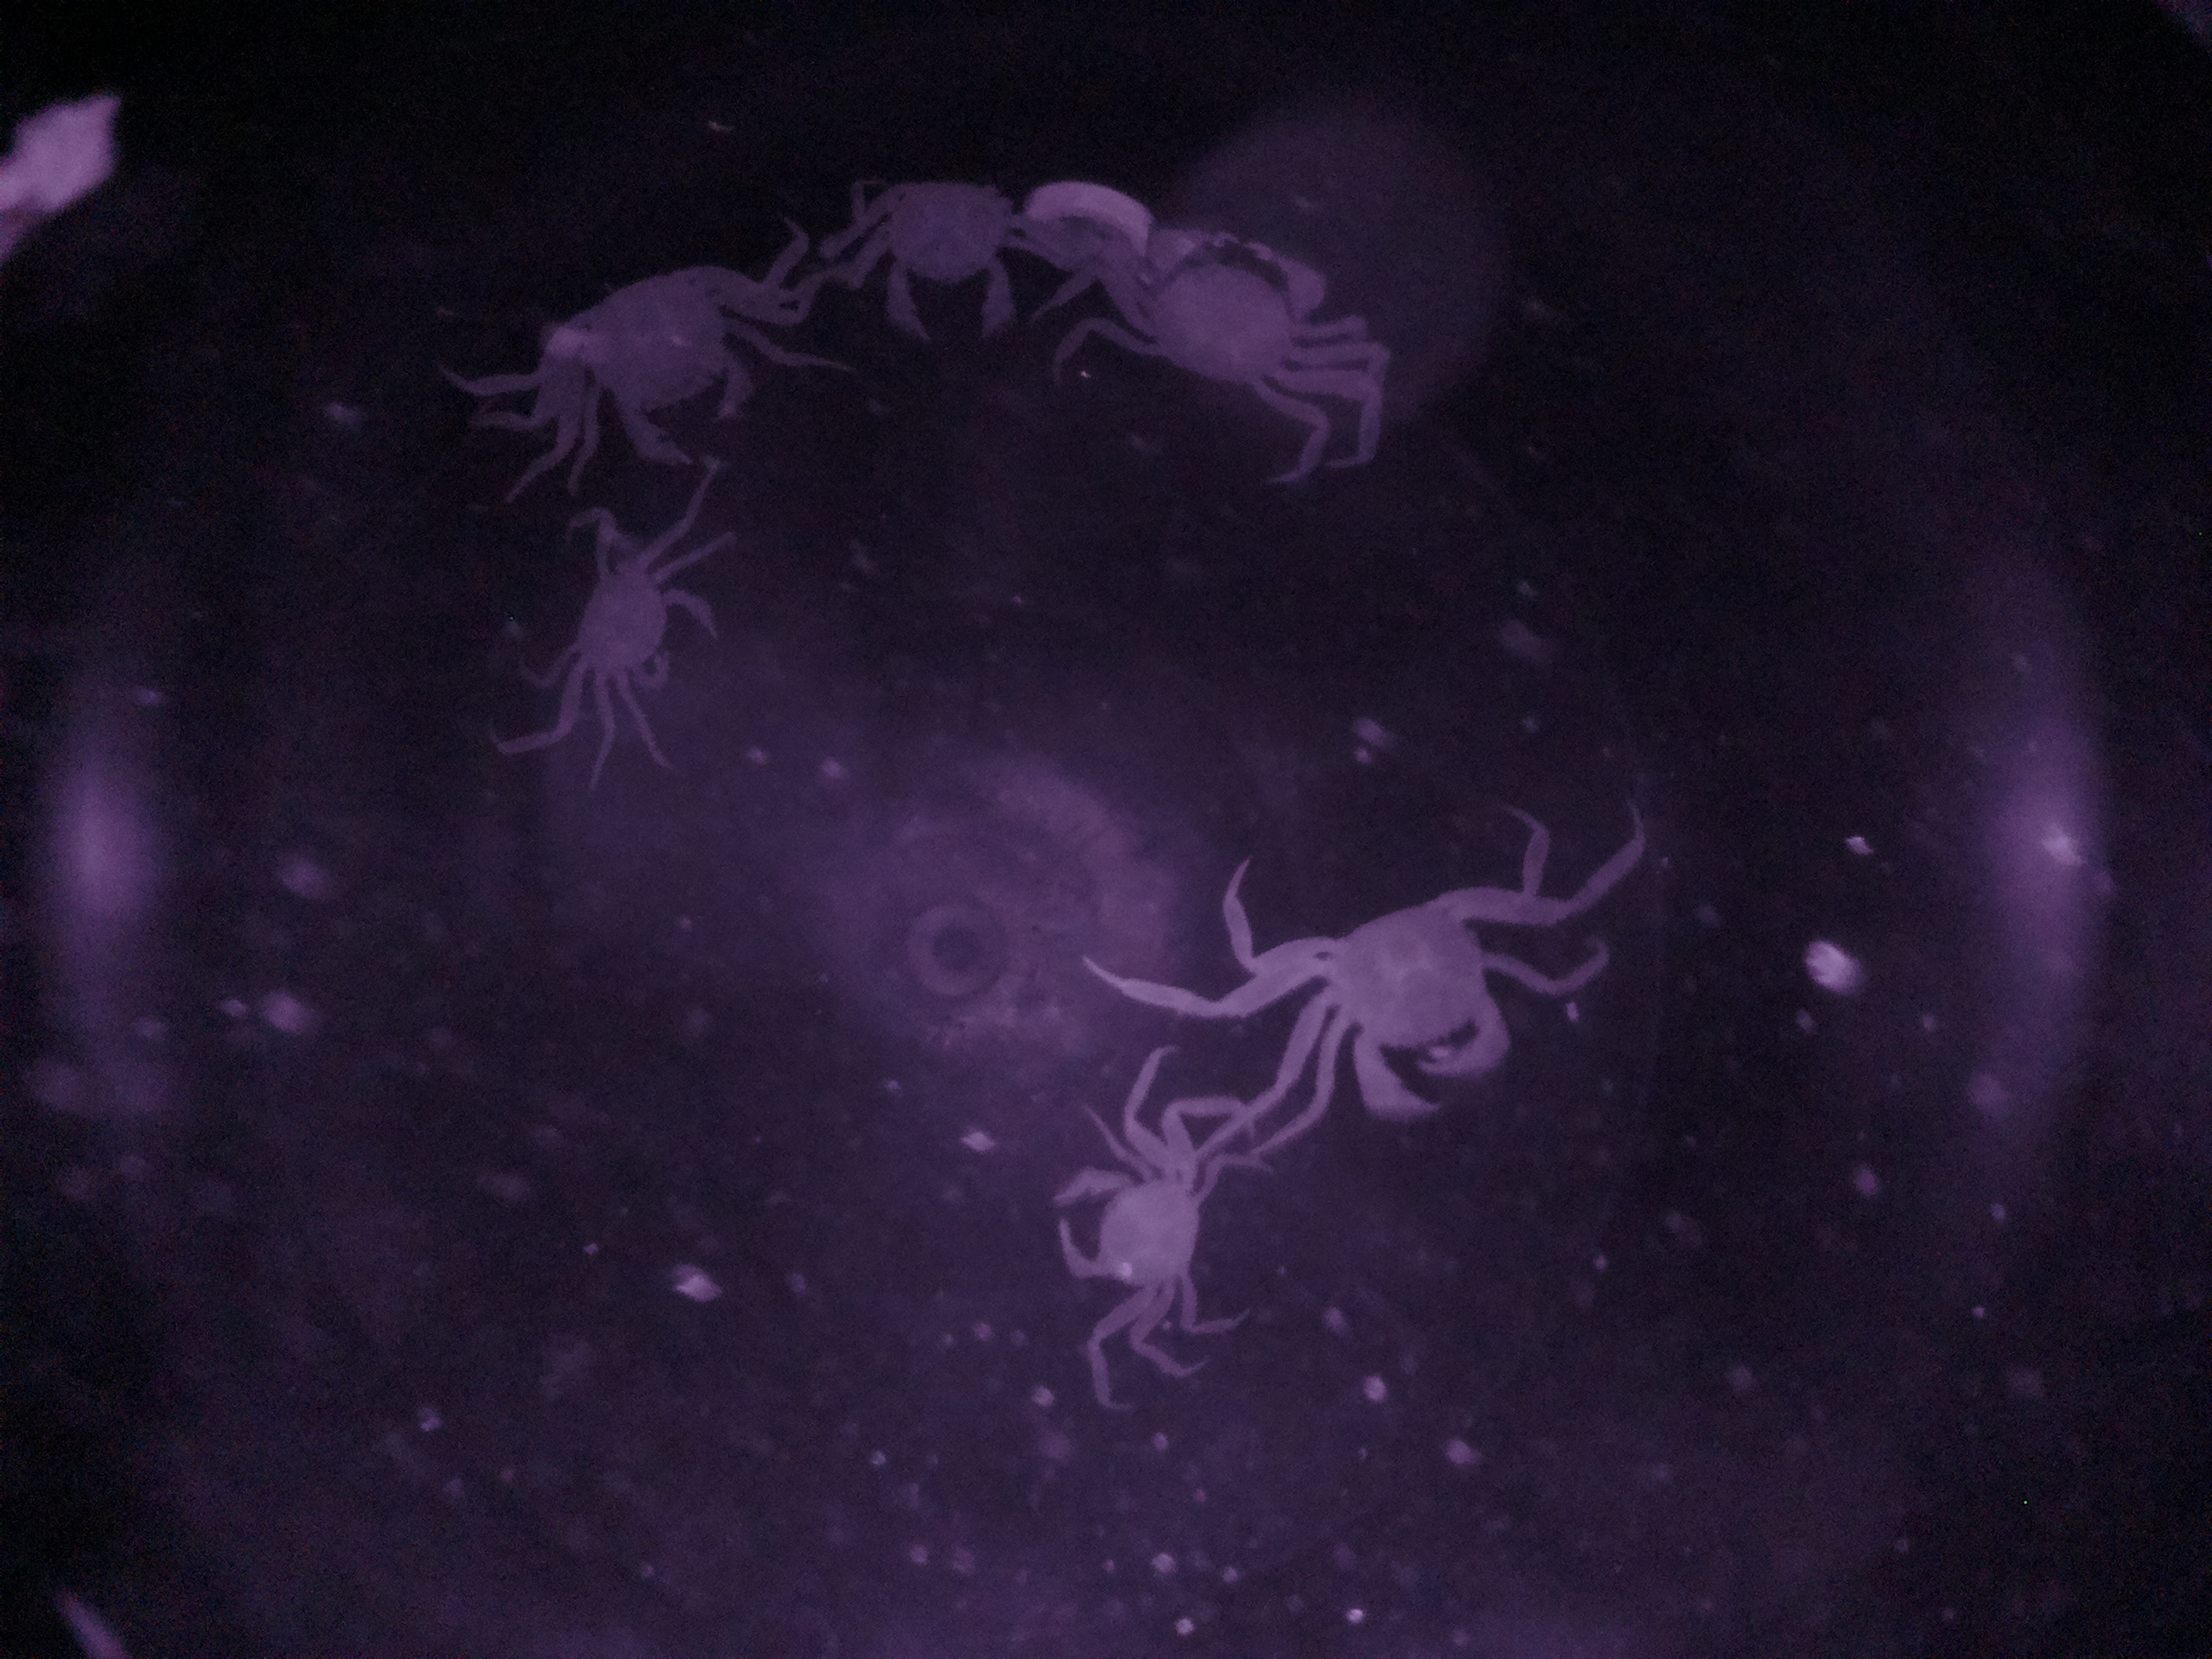Crab: (1238, 861, 1540, 1138), (1089, 206, 1360, 427), (547, 254, 772, 484), (843, 157, 1047, 364), (556, 525, 752, 734), (1049, 1131, 1238, 1328)
